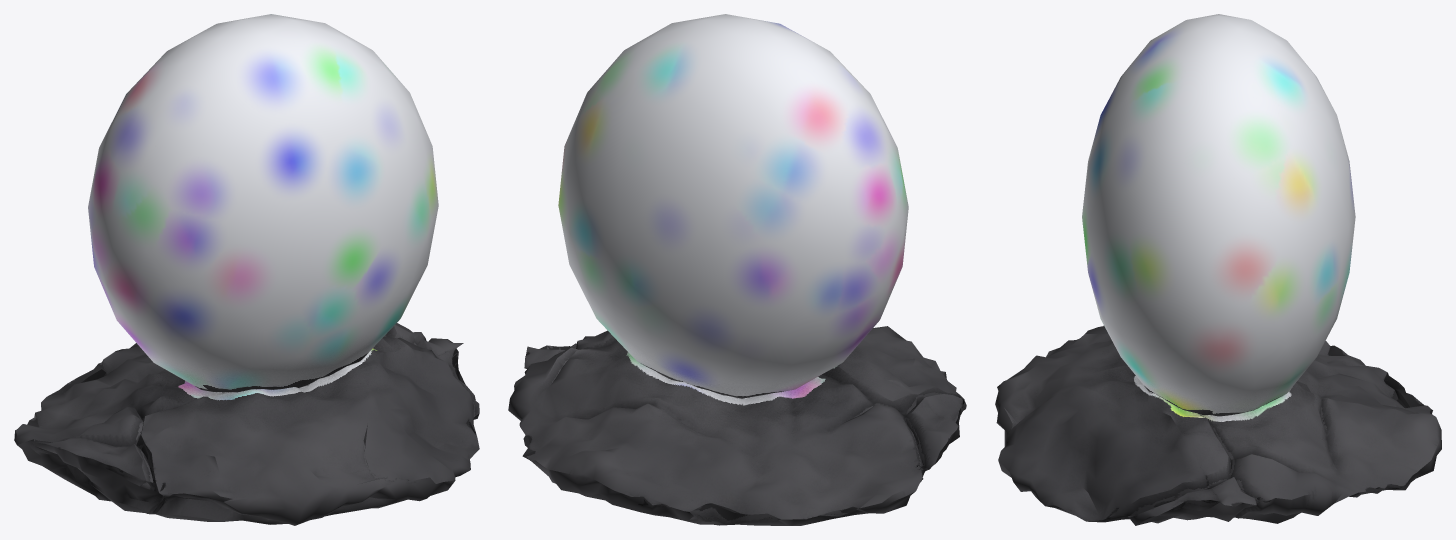
The model's file is opalo_celestial.fbx.
The picture shows the model from 3 angles, left to right: view 1: azimuth 30°, elevation 25°; view 2: azimuth 150°, elevation 25°; view 3: azimuth 270°, elevation 25°; orthographic projection.
Visible parts, largest first — view 1: opalo_celestial; view 2: opalo_celestial; view 3: opalo_celestial.
Boxes of the visible parts, box(x1,y1,x2,y2) form: opalo_celestial: box(14, 14, 479, 525); opalo_celestial: box(508, 14, 966, 525); opalo_celestial: box(995, 14, 1441, 525).
Bounding box in the file's own units: 3.2 × 3.09 × 2.94.
1 material, 1 textured.
